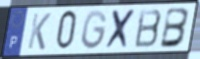0: (54, 9, 79, 54)
B: (158, 7, 191, 50), (133, 8, 164, 50)
G: (80, 8, 109, 51)
K: (26, 12, 52, 52)
X: (103, 7, 138, 51)
